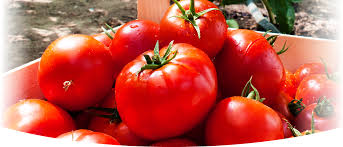tomato: (116, 47, 219, 139), (36, 38, 114, 109), (215, 33, 283, 100), (206, 98, 284, 143), (161, 1, 224, 53), (104, 21, 166, 72), (3, 100, 80, 140), (294, 71, 340, 111)
